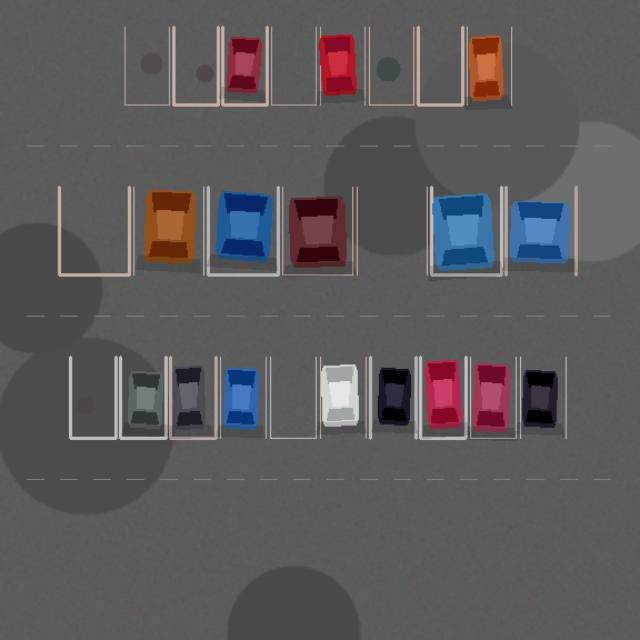space-empty: (59, 187, 129, 274), (357, 187, 427, 274), (70, 357, 116, 438), (270, 357, 316, 438), (124, 27, 169, 104), (173, 27, 218, 104), (271, 27, 316, 104), (369, 27, 413, 104), (418, 27, 462, 104)
space-occupied: (133, 187, 203, 274), (208, 187, 278, 274), (282, 187, 352, 274), (431, 187, 501, 274), (506, 187, 576, 274), (120, 357, 166, 438), (170, 357, 216, 438), (220, 357, 266, 438), (320, 357, 366, 438), (370, 357, 416, 438), (420, 357, 466, 438), (470, 357, 516, 438), (520, 357, 566, 438), (222, 27, 267, 104), (320, 27, 364, 104), (467, 27, 511, 104)
